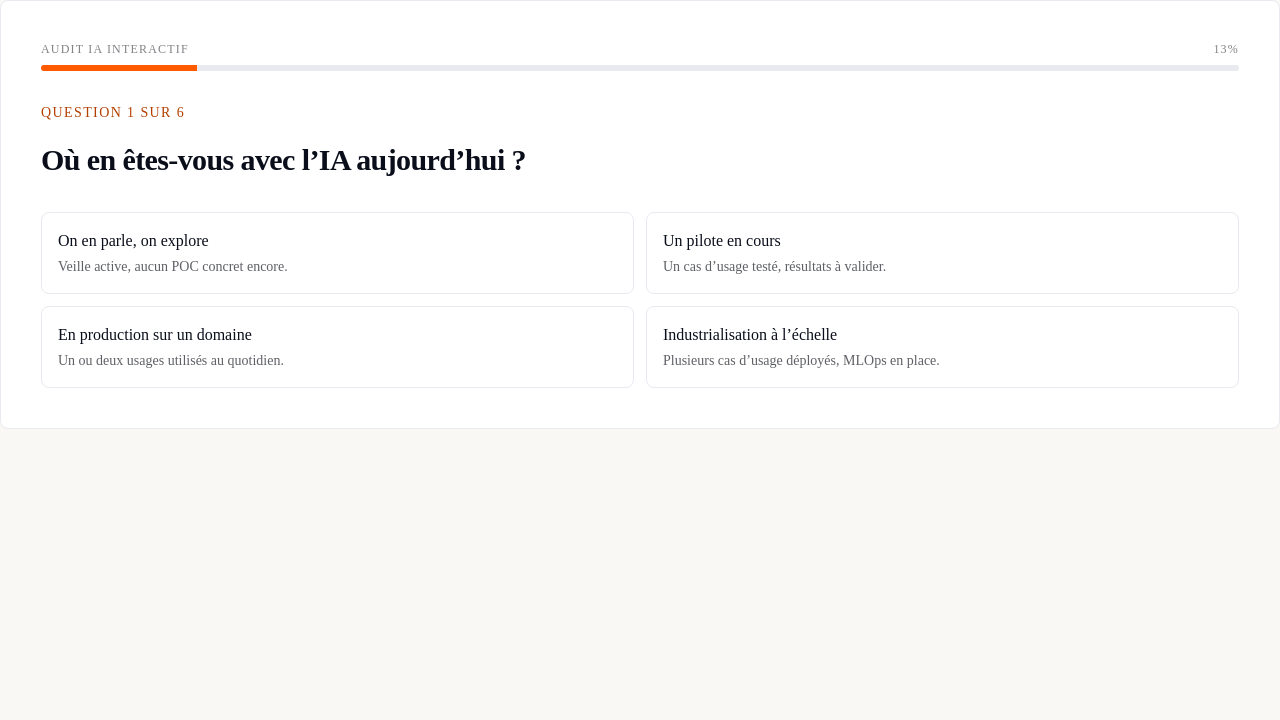
Test: AuditIaQuizWizard › passe à la 2e question après sélection de la 1re
This screenshot has width=1280, height=720.
Click the text "On en parle, on explore": (133, 241) [58, 229, 209, 253]
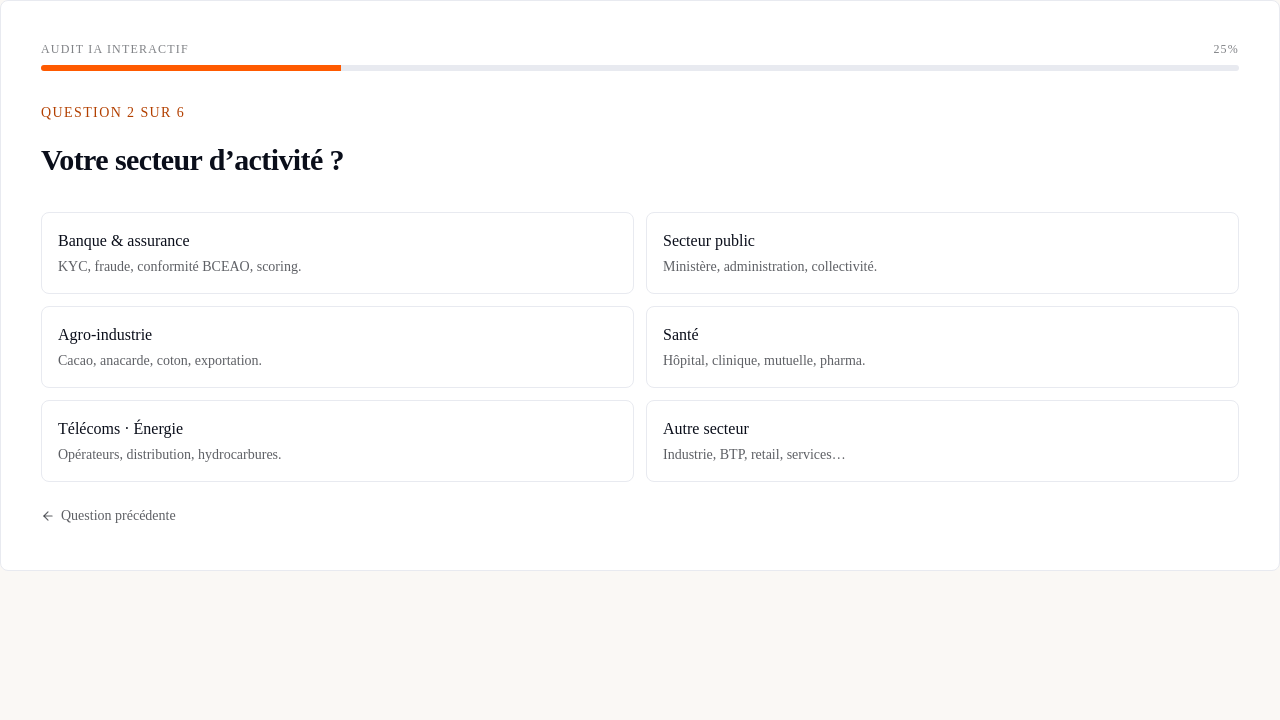
Check: the text "Question 2 sur 6" is shown, box [41, 105, 185, 120]
